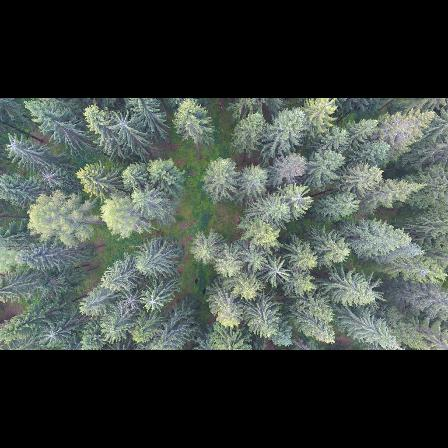Sick: (102, 106, 140, 137), (40, 317, 67, 348), (267, 255, 293, 285), (38, 165, 64, 191), (4, 135, 27, 160)
